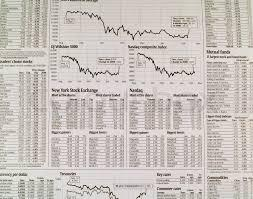Printing industry: (1, 4, 253, 199)
